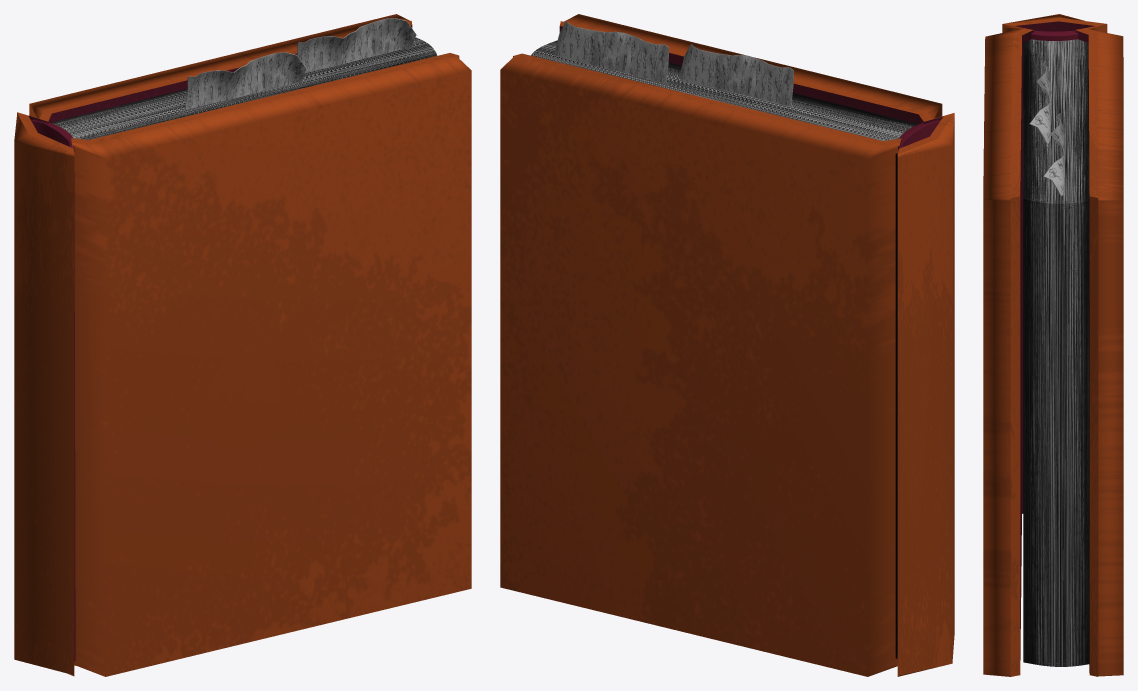
Rendered from book02.fbx.
3 views of the same model, side by side, from view 1: azimuth 30°, elevation 25°; view 2: azimuth 150°, elevation 25°; view 3: azimuth 270°, elevation 25° (orthographic). The views are drawn at different scales.
Visible parts, largest first — view 1: pCube11, pages3, paper2, paper1, spine2; view 2: pCube11, pages3, paper2, paper1; view 3: pCube11, pages3, paper1, paper2, spine2.
Part boxes in pixels (left/top/right/bottom): pCube11: left=14, top=14, right=471, bottom=676; pages3: left=51, top=37, right=437, bottom=139; paper2: left=185, top=52, right=307, bottom=109; paper1: left=297, top=18, right=417, bottom=72; spine2: left=31, top=119, right=75, bottom=661; pCube11: left=500, top=14, right=954, bottom=676; pages3: left=531, top=40, right=918, bottom=658; paper2: left=679, top=44, right=793, bottom=106; paper1: left=554, top=21, right=668, bottom=83; pCube11: left=983, top=14, right=1123, bottom=676; pages3: left=1023, top=39, right=1089, bottom=666; paper1: left=1043, top=113, right=1064, bottom=195; paper2: left=1029, top=61, right=1050, bottom=143; spine2: left=1018, top=29, right=1090, bottom=40.
Size of the model in its own units: 0.7491 by 0.9387 by 0.2378.
